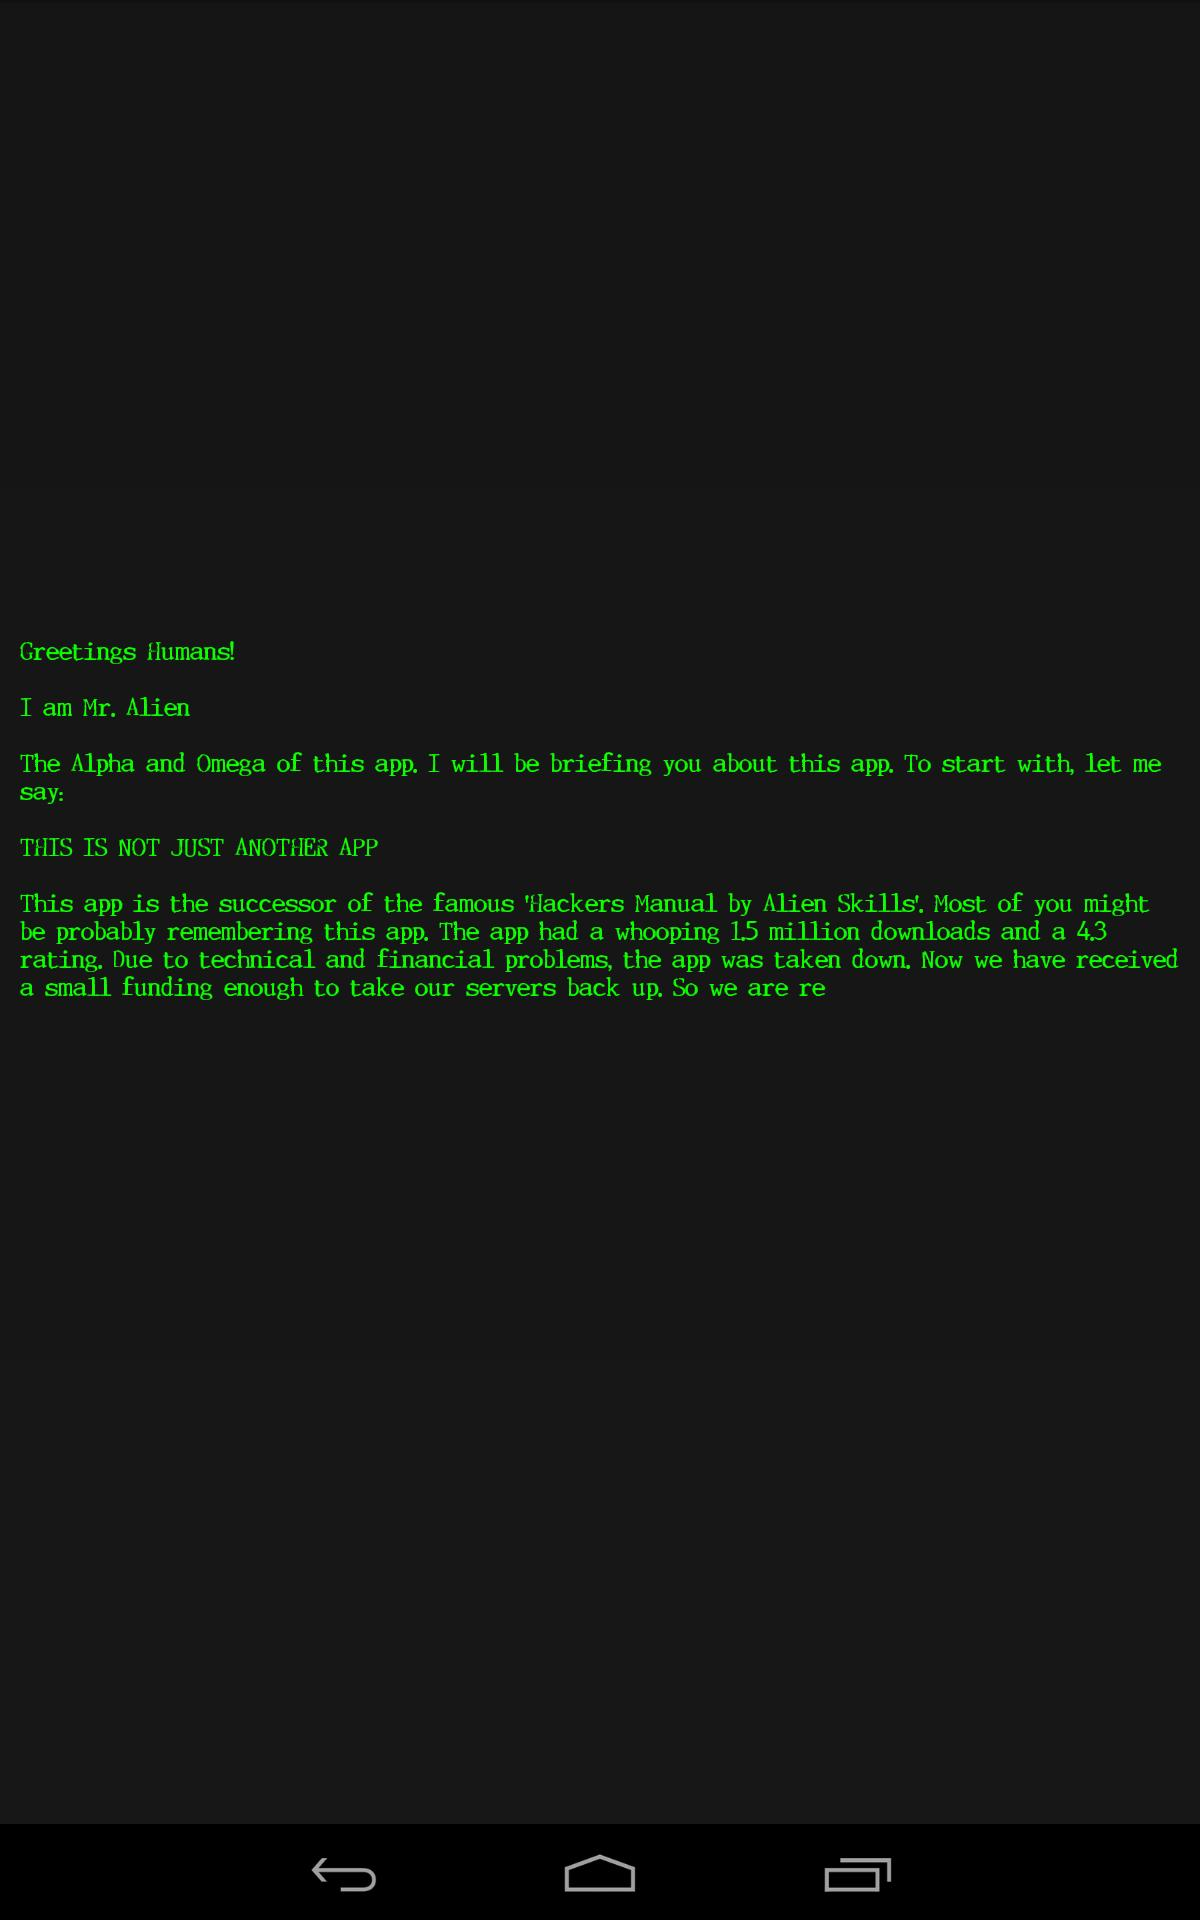android.widget.EditText: (19, 19, 1181, 1621)
android.widget.FrameLayout: (0, 0, 1200, 1825)
android.widget.LinearLayout: (0, 0, 1200, 1825), (0, 0, 1200, 1641), (0, 1641, 1200, 1825)
android.widget.TextView: (0, 1662, 1200, 1688)
